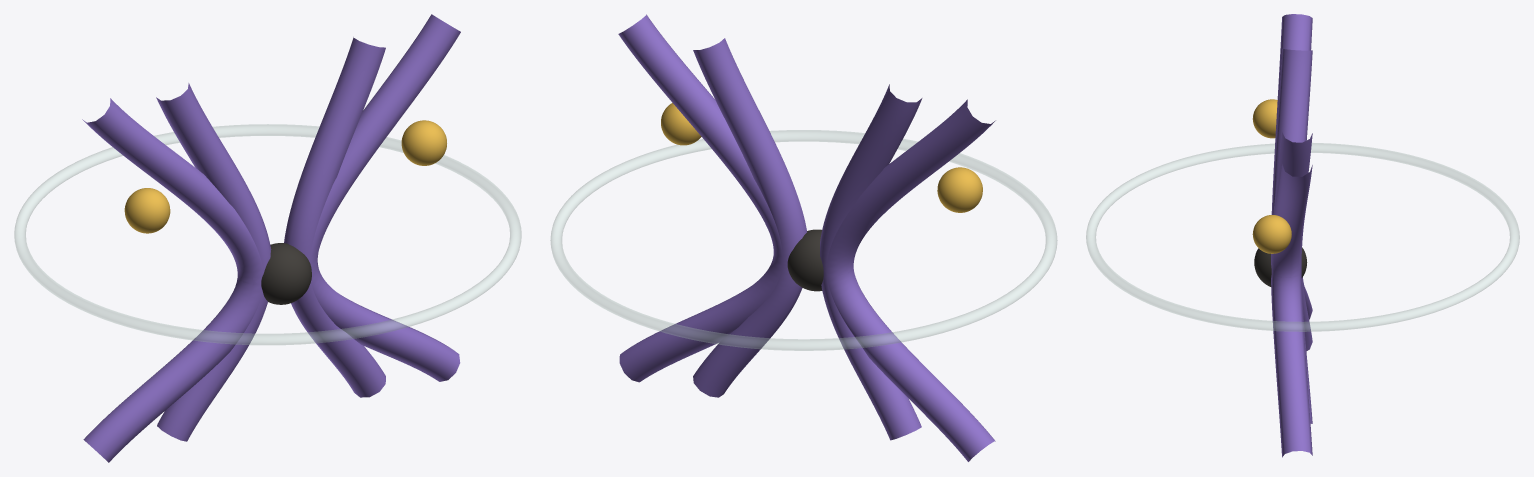
The model's file is bio-genetics-chromosome.glb.
The picture shows the model from 3 angles, left to right: view 1: azimuth 30°, elevation 25°; view 2: azimuth 150°, elevation 25°; view 3: azimuth 270°, elevation 25°; orthographic projection. The views are drawn at different scales.
Visible parts, largest first — view 1: x-shaped-chromosome-maternal-chromatid-b, x-shaped-chromosome-paternal-chromatid-b, chromosome-packed-dna-boundary, x-shaped-chromosome-paternal-chromatid-a, x-shaped-chromosome-maternal-chromatid-a, x-shaped-chromosome-centromere, x-shaped-chromosome-matching-gene-locus-left, x-shaped-chromosome-matching-gene-locus-right; view 2: x-shaped-chromosome-maternal-chromatid-b, x-shaped-chromosome-paternal-chromatid-b, x-shaped-chromosome-paternal-chromatid-a, chromosome-packed-dna-boundary, x-shaped-chromosome-maternal-chromatid-a, x-shaped-chromosome-centromere, x-shaped-chromosome-matching-gene-locus-left, x-shaped-chromosome-matching-gene-locus-right; view 3: chromosome-packed-dna-boundary, x-shaped-chromosome-paternal-chromatid-b, x-shaped-chromosome-maternal-chromatid-a, x-shaped-chromosome-paternal-chromatid-a, x-shaped-chromosome-maternal-chromatid-b, x-shaped-chromosome-matching-gene-locus-right, x-shaped-chromosome-matching-gene-locus-left, x-shaped-chromosome-centromere.
Boxes of the visible parts, left/top/right/bottom form: x-shaped-chromosome-maternal-chromatid-b: left=82, top=98, right=263, bottom=462; x-shaped-chromosome-paternal-chromatid-b: left=309, top=14, right=460, bottom=381; chromosome-packed-dna-boundary: left=14, top=124, right=521, bottom=344; x-shaped-chromosome-paternal-chromatid-a: left=284, top=37, right=385, bottom=397; x-shaped-chromosome-maternal-chromatid-a: left=156, top=83, right=271, bottom=441; x-shaped-chromosome-centromere: left=261, top=243, right=311, bottom=304; x-shaped-chromosome-matching-gene-locus-left: left=124, top=188, right=170, bottom=233; x-shaped-chromosome-matching-gene-locus-right: left=401, top=120, right=446, bottom=165; x-shaped-chromosome-maternal-chromatid-b: left=824, top=99, right=995, bottom=461; x-shaped-chromosome-paternal-chromatid-b: left=618, top=14, right=786, bottom=382; x-shaped-chromosome-paternal-chromatid-a: left=693, top=38, right=806, bottom=397; chromosome-packed-dna-boundary: left=550, top=130, right=1057, bottom=350; x-shaped-chromosome-maternal-chromatid-a: left=820, top=84, right=922, bottom=440; x-shaped-chromosome-centromere: left=787, top=229, right=823, bottom=291; x-shaped-chromosome-matching-gene-locus-left: left=937, top=167, right=982, bottom=212; x-shaped-chromosome-matching-gene-locus-right: left=661, top=103, right=701, bottom=145; chromosome-packed-dna-boundary: left=1086, top=143, right=1519, bottom=331; x-shaped-chromosome-paternal-chromatid-b: left=1271, top=164, right=1312, bottom=457; x-shaped-chromosome-maternal-chromatid-a: left=1271, top=48, right=1312, bottom=351; x-shaped-chromosome-paternal-chromatid-a: left=1272, top=132, right=1312, bottom=423; x-shaped-chromosome-maternal-chromatid-b: left=1272, top=14, right=1312, bottom=319; x-shaped-chromosome-matching-gene-locus-right: left=1252, top=215, right=1291, bottom=253; x-shaped-chromosome-matching-gene-locus-left: left=1252, top=99, right=1277, bottom=138; x-shaped-chromosome-centromere: left=1254, top=247, right=1307, bottom=286.
Size of what is drawn, in the model's own units: 1.56 by 1.23 by 1.56.
